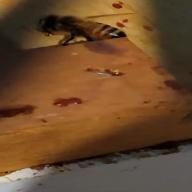Bee: (29, 13, 133, 47)
